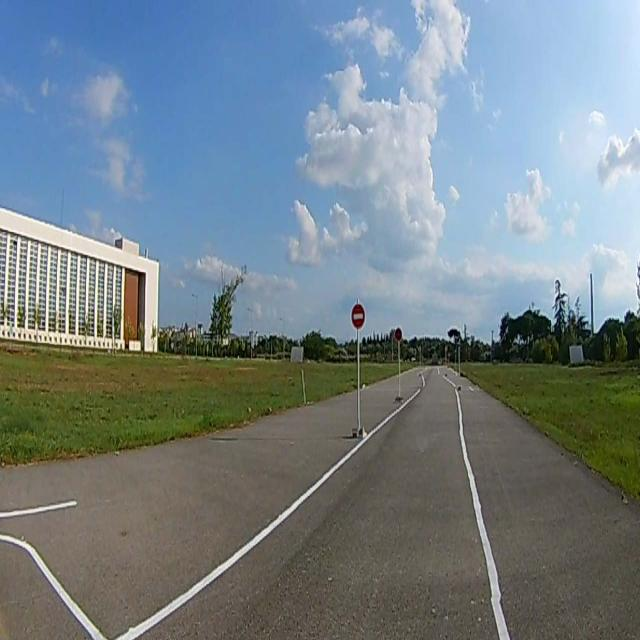girisyok: (351, 303, 365, 329)
